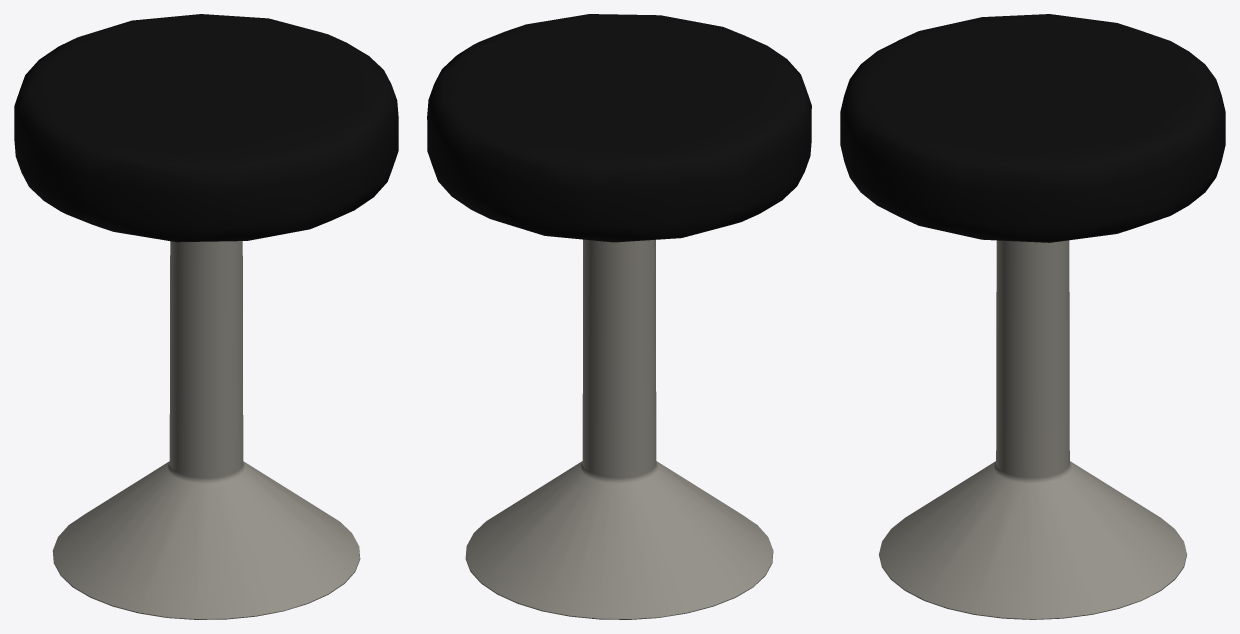
The model's file is barstool_03_black.fbx.
The picture shows the model from 3 angles, left to right: view 1: azimuth 30°, elevation 25°; view 2: azimuth 150°, elevation 25°; view 3: azimuth 270°, elevation 25°; orthographic projection.
Parts seen in each view (by area): view 1: barstool_03_black; view 2: barstool_03_black; view 3: barstool_03_black.
Part boxes in pixels (x1=…): barstool_03_black: x1=14, y1=14, x2=398, y2=619; barstool_03_black: x1=427, y1=14, x2=811, y2=619; barstool_03_black: x1=840, y1=14, x2=1225, y2=619.
Bounding box in the file's own units: 52.72 × 70.84 × 52.72.
2 materials, 2 textured.
